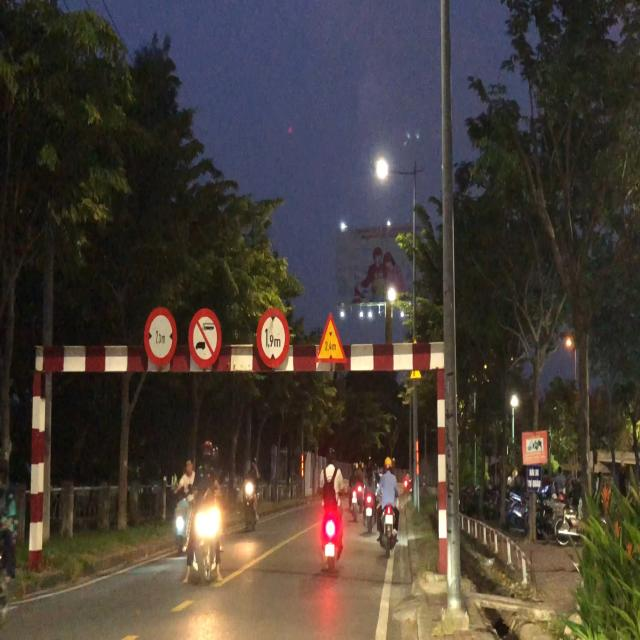Bien bao cam xe oto khach va xe oto tai: (188, 303, 223, 372)
Bien bao chieu cao tinh khong thuc te: (314, 306, 348, 366)
Bien bao han che chieu cao: (256, 303, 291, 371)
